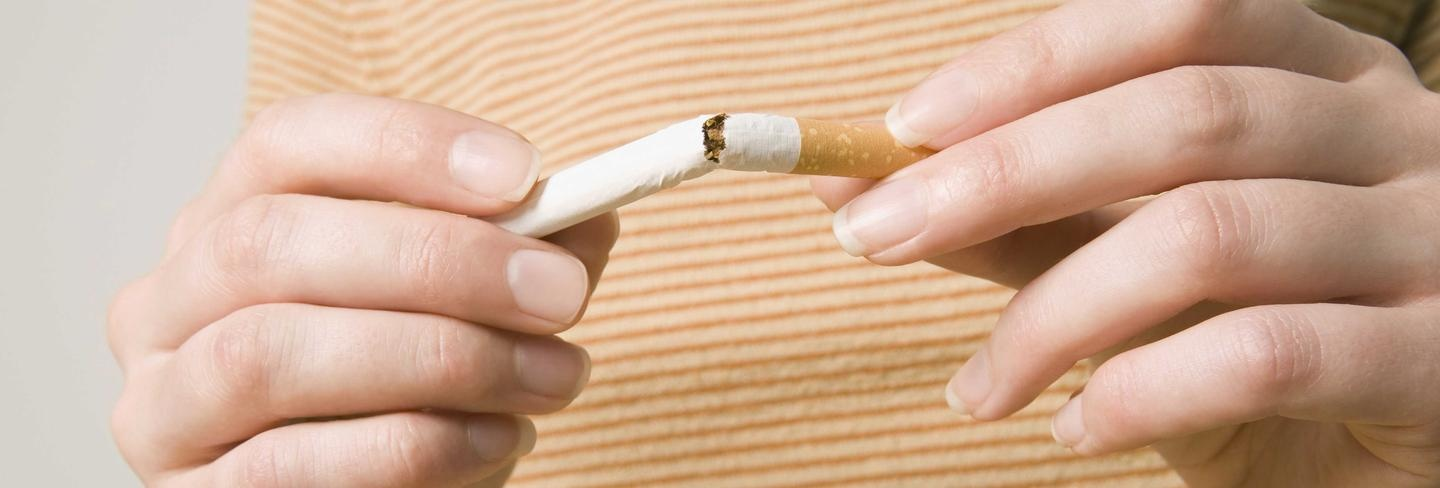sigaretta: (475, 107, 1033, 238)
